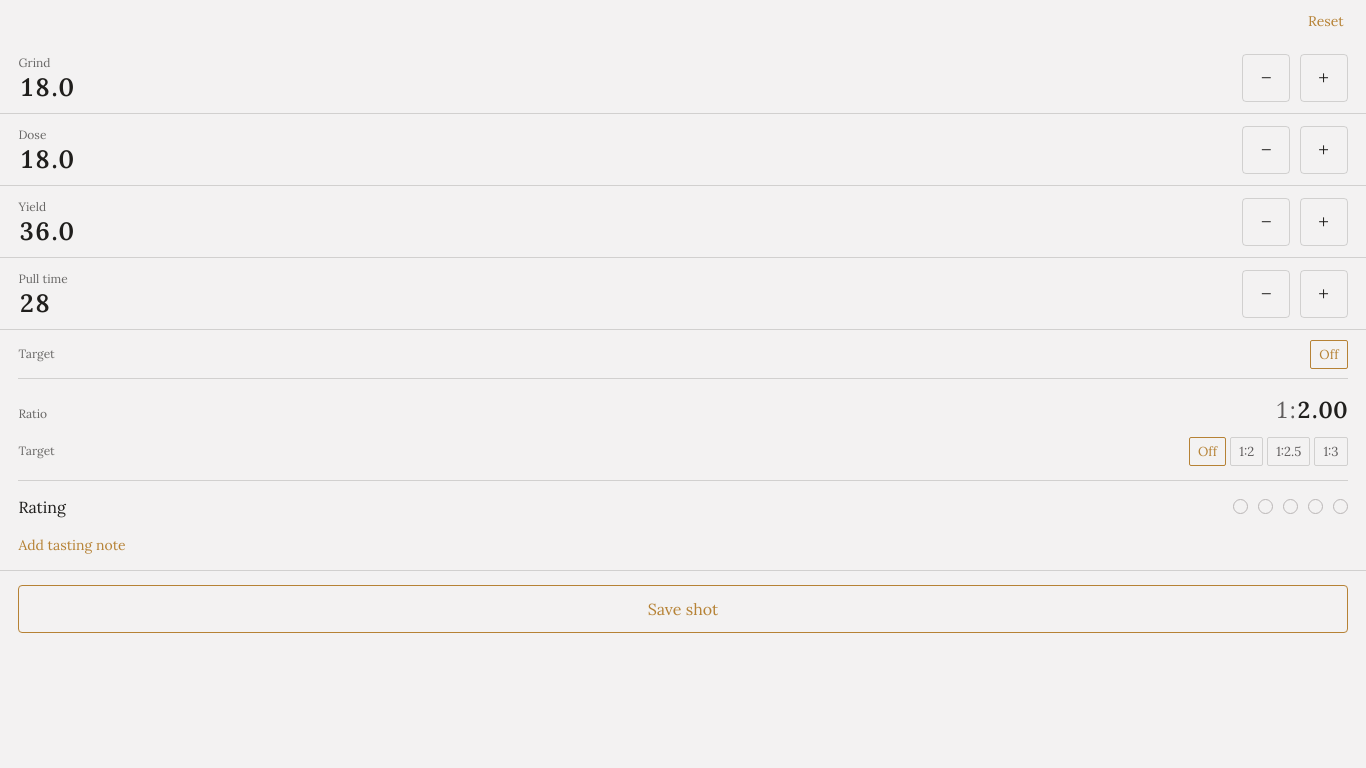
Test case: ShotForm › expands a tasting note field from the ghost link
Click the button "Add tasting note" at (72, 545), box [14,533,1352,557]
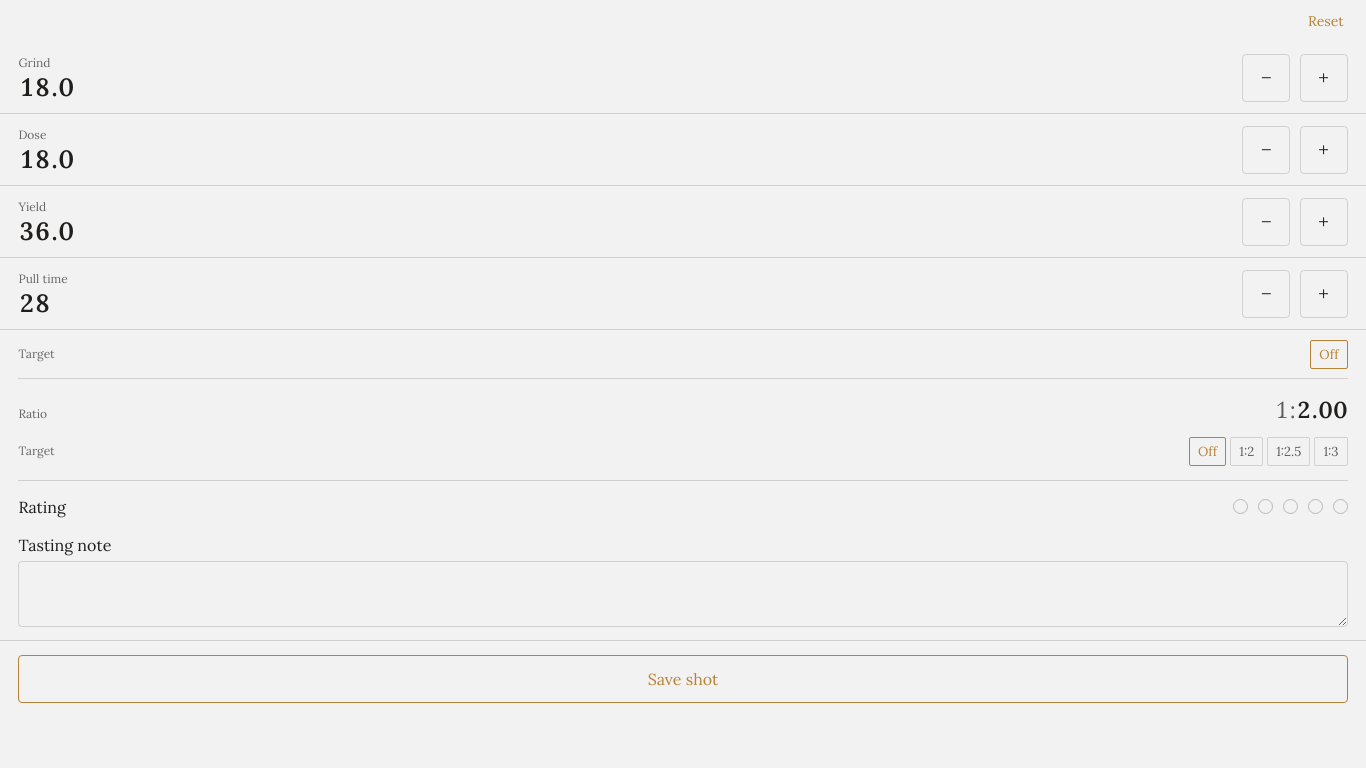
Check: the text box labelled "Tasting note" is shown, box [18,561,1348,627]
